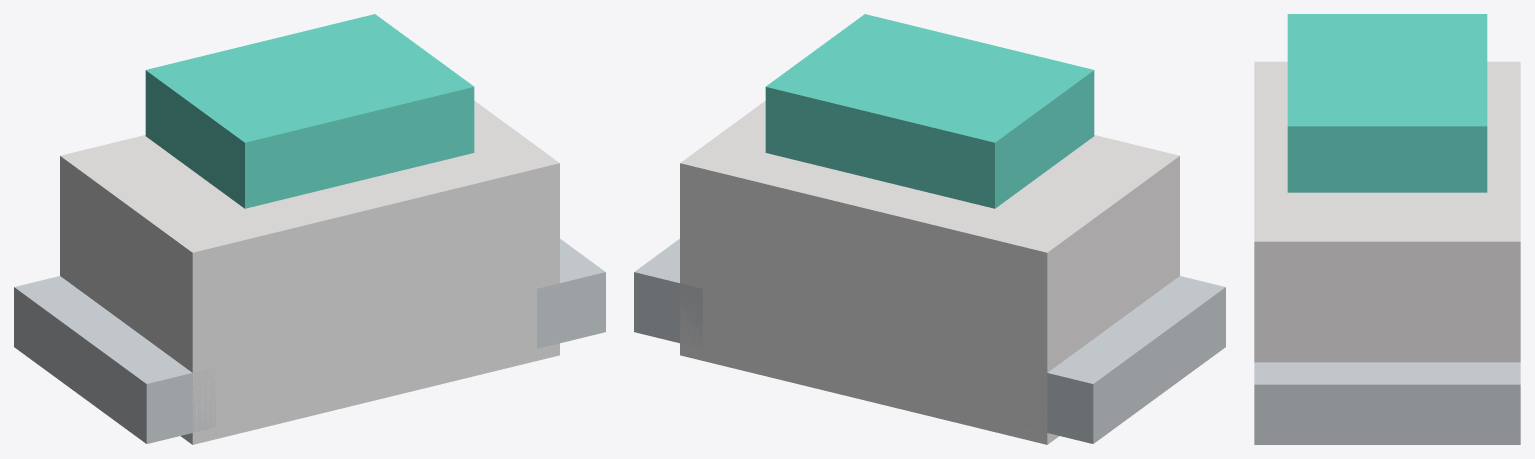
File: 245_L119_LED3.glb
3 views of the same model, side by side, from view 1: azimuth 30°, elevation 25°; view 2: azimuth 150°, elevation 25°; view 3: azimuth 270°, elevation 25° (orthographic).
Visible parts, largest first — view 1: 0000__PSMAT__ceramic_white, 0001__PSMAT__status_green, 0002__PSMAT__tin, 0003__PSMAT__tin; view 2: 0000__PSMAT__ceramic_white, 0001__PSMAT__status_green, 0002__PSMAT__tin, 0003__PSMAT__tin; view 3: 0000__PSMAT__ceramic_white, 0001__PSMAT__status_green, 0003__PSMAT__tin.
Boxes of the visible parts, <box> form: 0000__PSMAT__ceramic_white: <box>60,101,559,444</box>; 0001__PSMAT__status_green: <box>145,14,474,208</box>; 0002__PSMAT__tin: <box>14,276,215,443</box>; 0003__PSMAT__tin: <box>537,239,605,348</box>; 0000__PSMAT__ceramic_white: <box>680,101,1179,444</box>; 0001__PSMAT__status_green: <box>765,14,1094,208</box>; 0002__PSMAT__tin: <box>1024,276,1225,443</box>; 0003__PSMAT__tin: <box>634,239,702,348</box>; 0000__PSMAT__ceramic_white: <box>1254,61,1520,362</box>; 0001__PSMAT__status_green: <box>1287,14,1487,192</box>; 0003__PSMAT__tin: <box>1254,362,1520,444</box>.
Bounding box in the file's own units: 0.004 × 0.00227 × 0.002.
